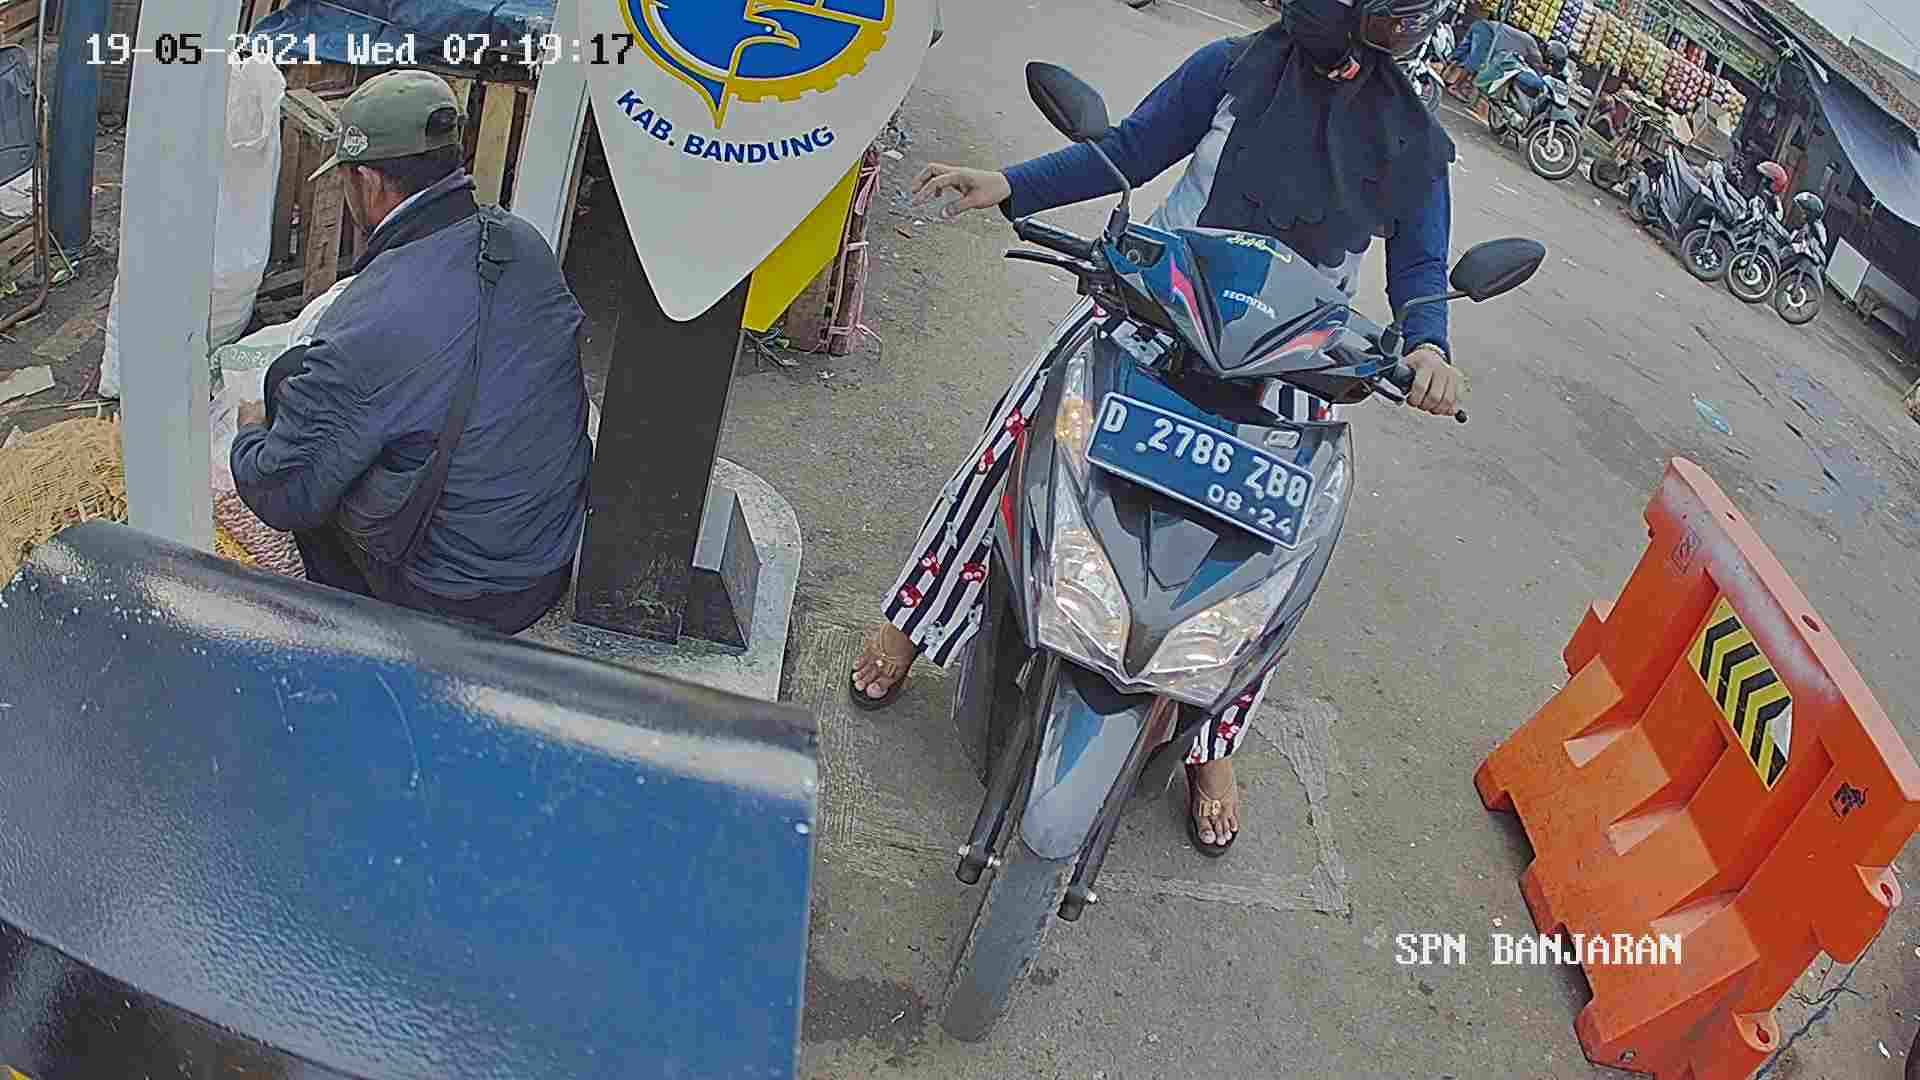motor: (862, 174, 1393, 1042)
